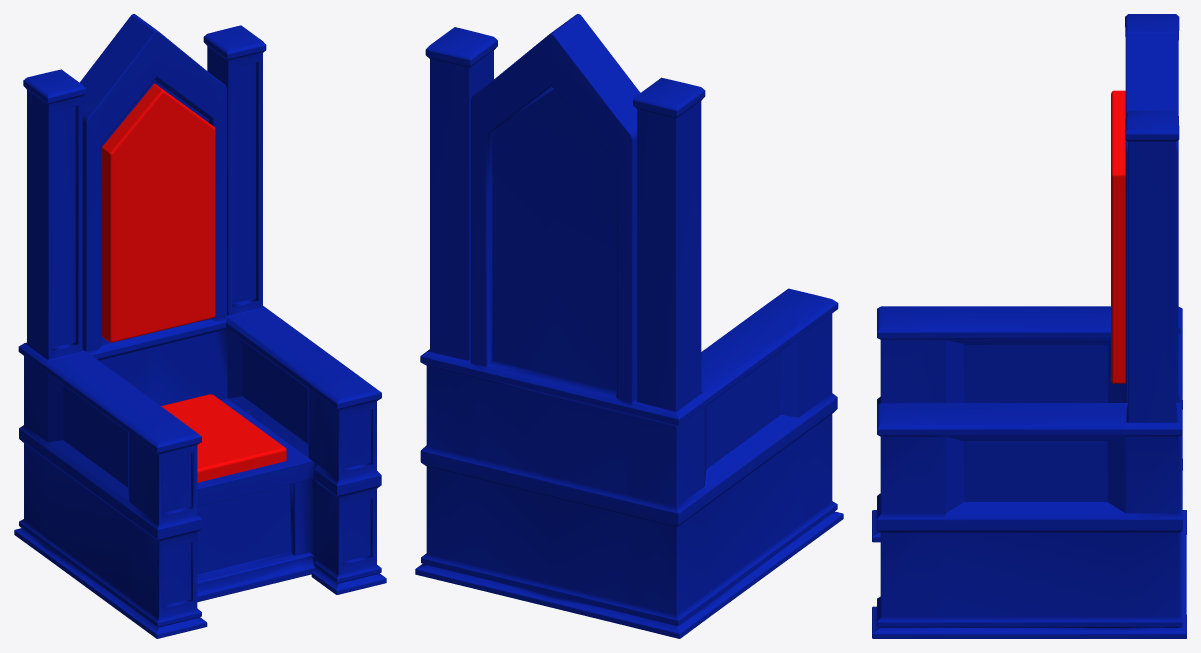
The model's file is sm_throne.fbx.
The picture shows the model from 3 angles, left to right: view 1: azimuth 30°, elevation 25°; view 2: azimuth 150°, elevation 25°; view 3: azimuth 270°, elevation 25°; orthographic projection. The views are drawn at different scales.
Parts seen in each view (by area): view 1: throne_low (×2); view 2: throne_low; view 3: throne_low (×2).
Boxes of the visible parts, left/top/right/bottom form: throne_low (×2): left=14, top=14, right=386, bottom=638; throne_low: left=415, top=14, right=843, bottom=638; throne_low (×2): left=872, top=14, right=1186, bottom=638.
Bounding box in the file's own units: 88.73 × 182 × 95.3.
